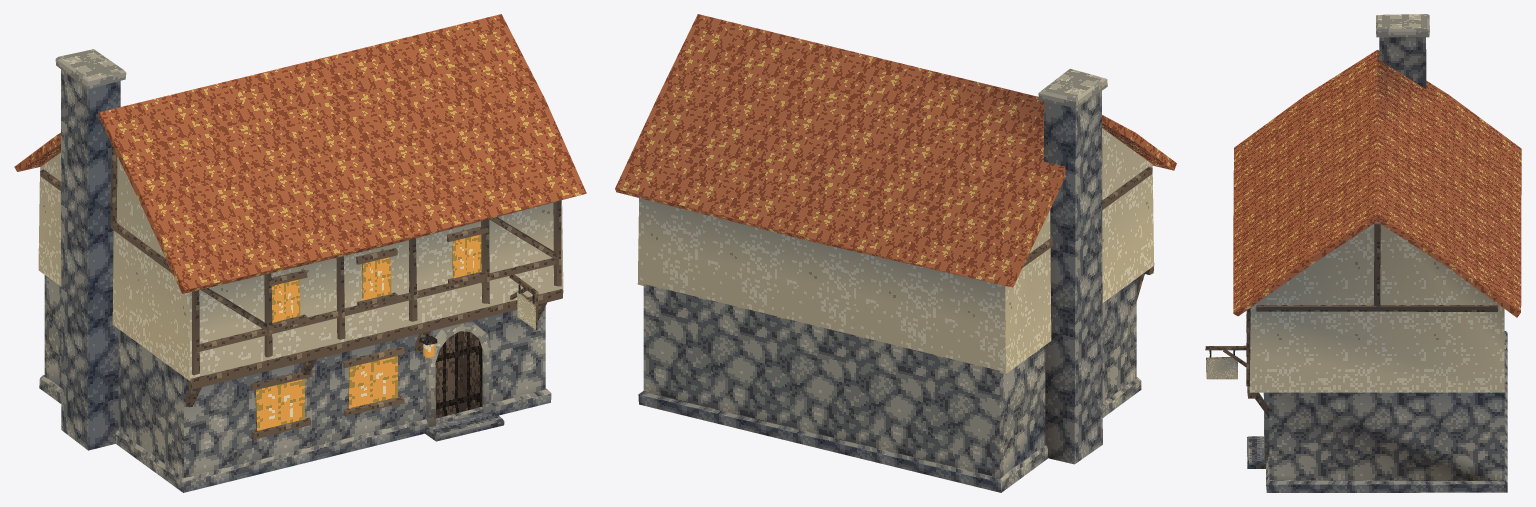
The model's file is vlg.tavern.glb.
3 views of the same model, side by side, from view 1: azimuth 30°, elevation 25°; view 2: azimuth 150°, elevation 25°; view 3: azimuth 270°, elevation 25° (orthographic). The views are drawn at different scales.
Parts seen in each view (by area): view 1: kit_roof, kit_walls, kit_stonework, kit_fittings, kit_frame; view 2: kit_walls, kit_roof, kit_stonework, kit_frame; view 3: kit_walls, kit_roof, kit_stonework, kit_frame, kit_fittings.
Part boxes in pixels (x1,y1,x2,y2): kit_roof: (14, 14, 586, 293); kit_walls: (38, 152, 563, 477); kit_stonework: (39, 49, 551, 492); kit_fittings: (250, 226, 538, 441); kit_frame: (40, 144, 563, 407); kit_walls: (637, 128, 1154, 477); kit_roof: (615, 14, 1176, 287); kit_stonework: (638, 68, 1141, 492); kit_frame: (1022, 166, 1154, 300); kit_walls: (1249, 222, 1504, 481); kit_roof: (1233, 50, 1521, 317); kit_stonework: (1266, 14, 1507, 492); kit_frame: (1246, 223, 1497, 417); kit_fittings: (1205, 314, 1269, 468).
Bounding box in the file's own units: 10.35 × 8.87 × 8.06.
11 materials, 11 textured.
